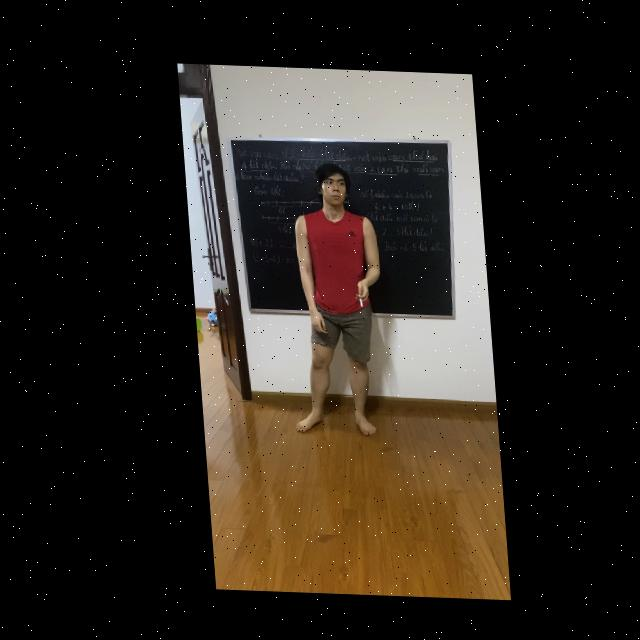cigarette: (353, 292, 358, 304)
